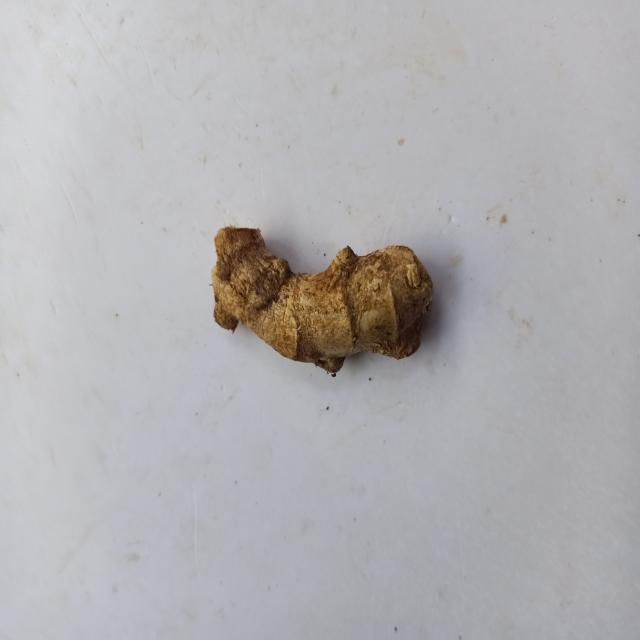Ginger: (211, 226, 433, 376)
